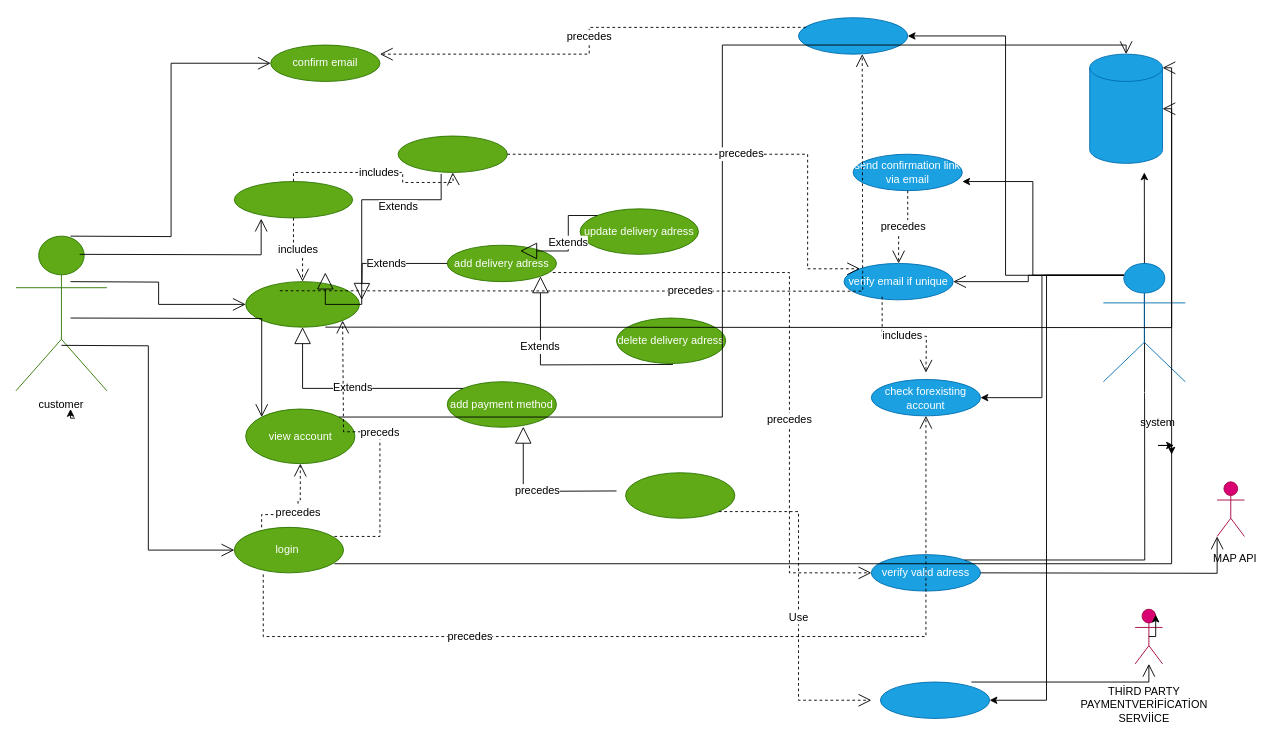
Image size: 1279x741. Some labels were removed from this diagram. Here are the shapes that lost their labels. From the top down, the centre of each, then its label:
At [853,35]: "update custamerdatabase".
At [1126,108]: "customer database".
At [452,153]: "change email adress".
At [293,199]: "register".
At [302,304]: "update account details".
At [680,495]: "enter payment details".
At [935,699]: "verify credit card details".
